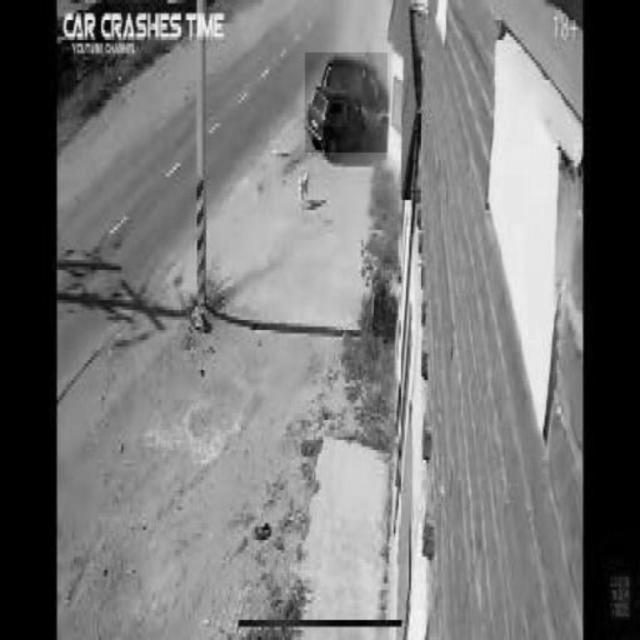accident: (305, 53, 387, 153)
